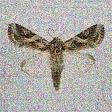Spodoptera litura: (7, 20, 106, 92)
